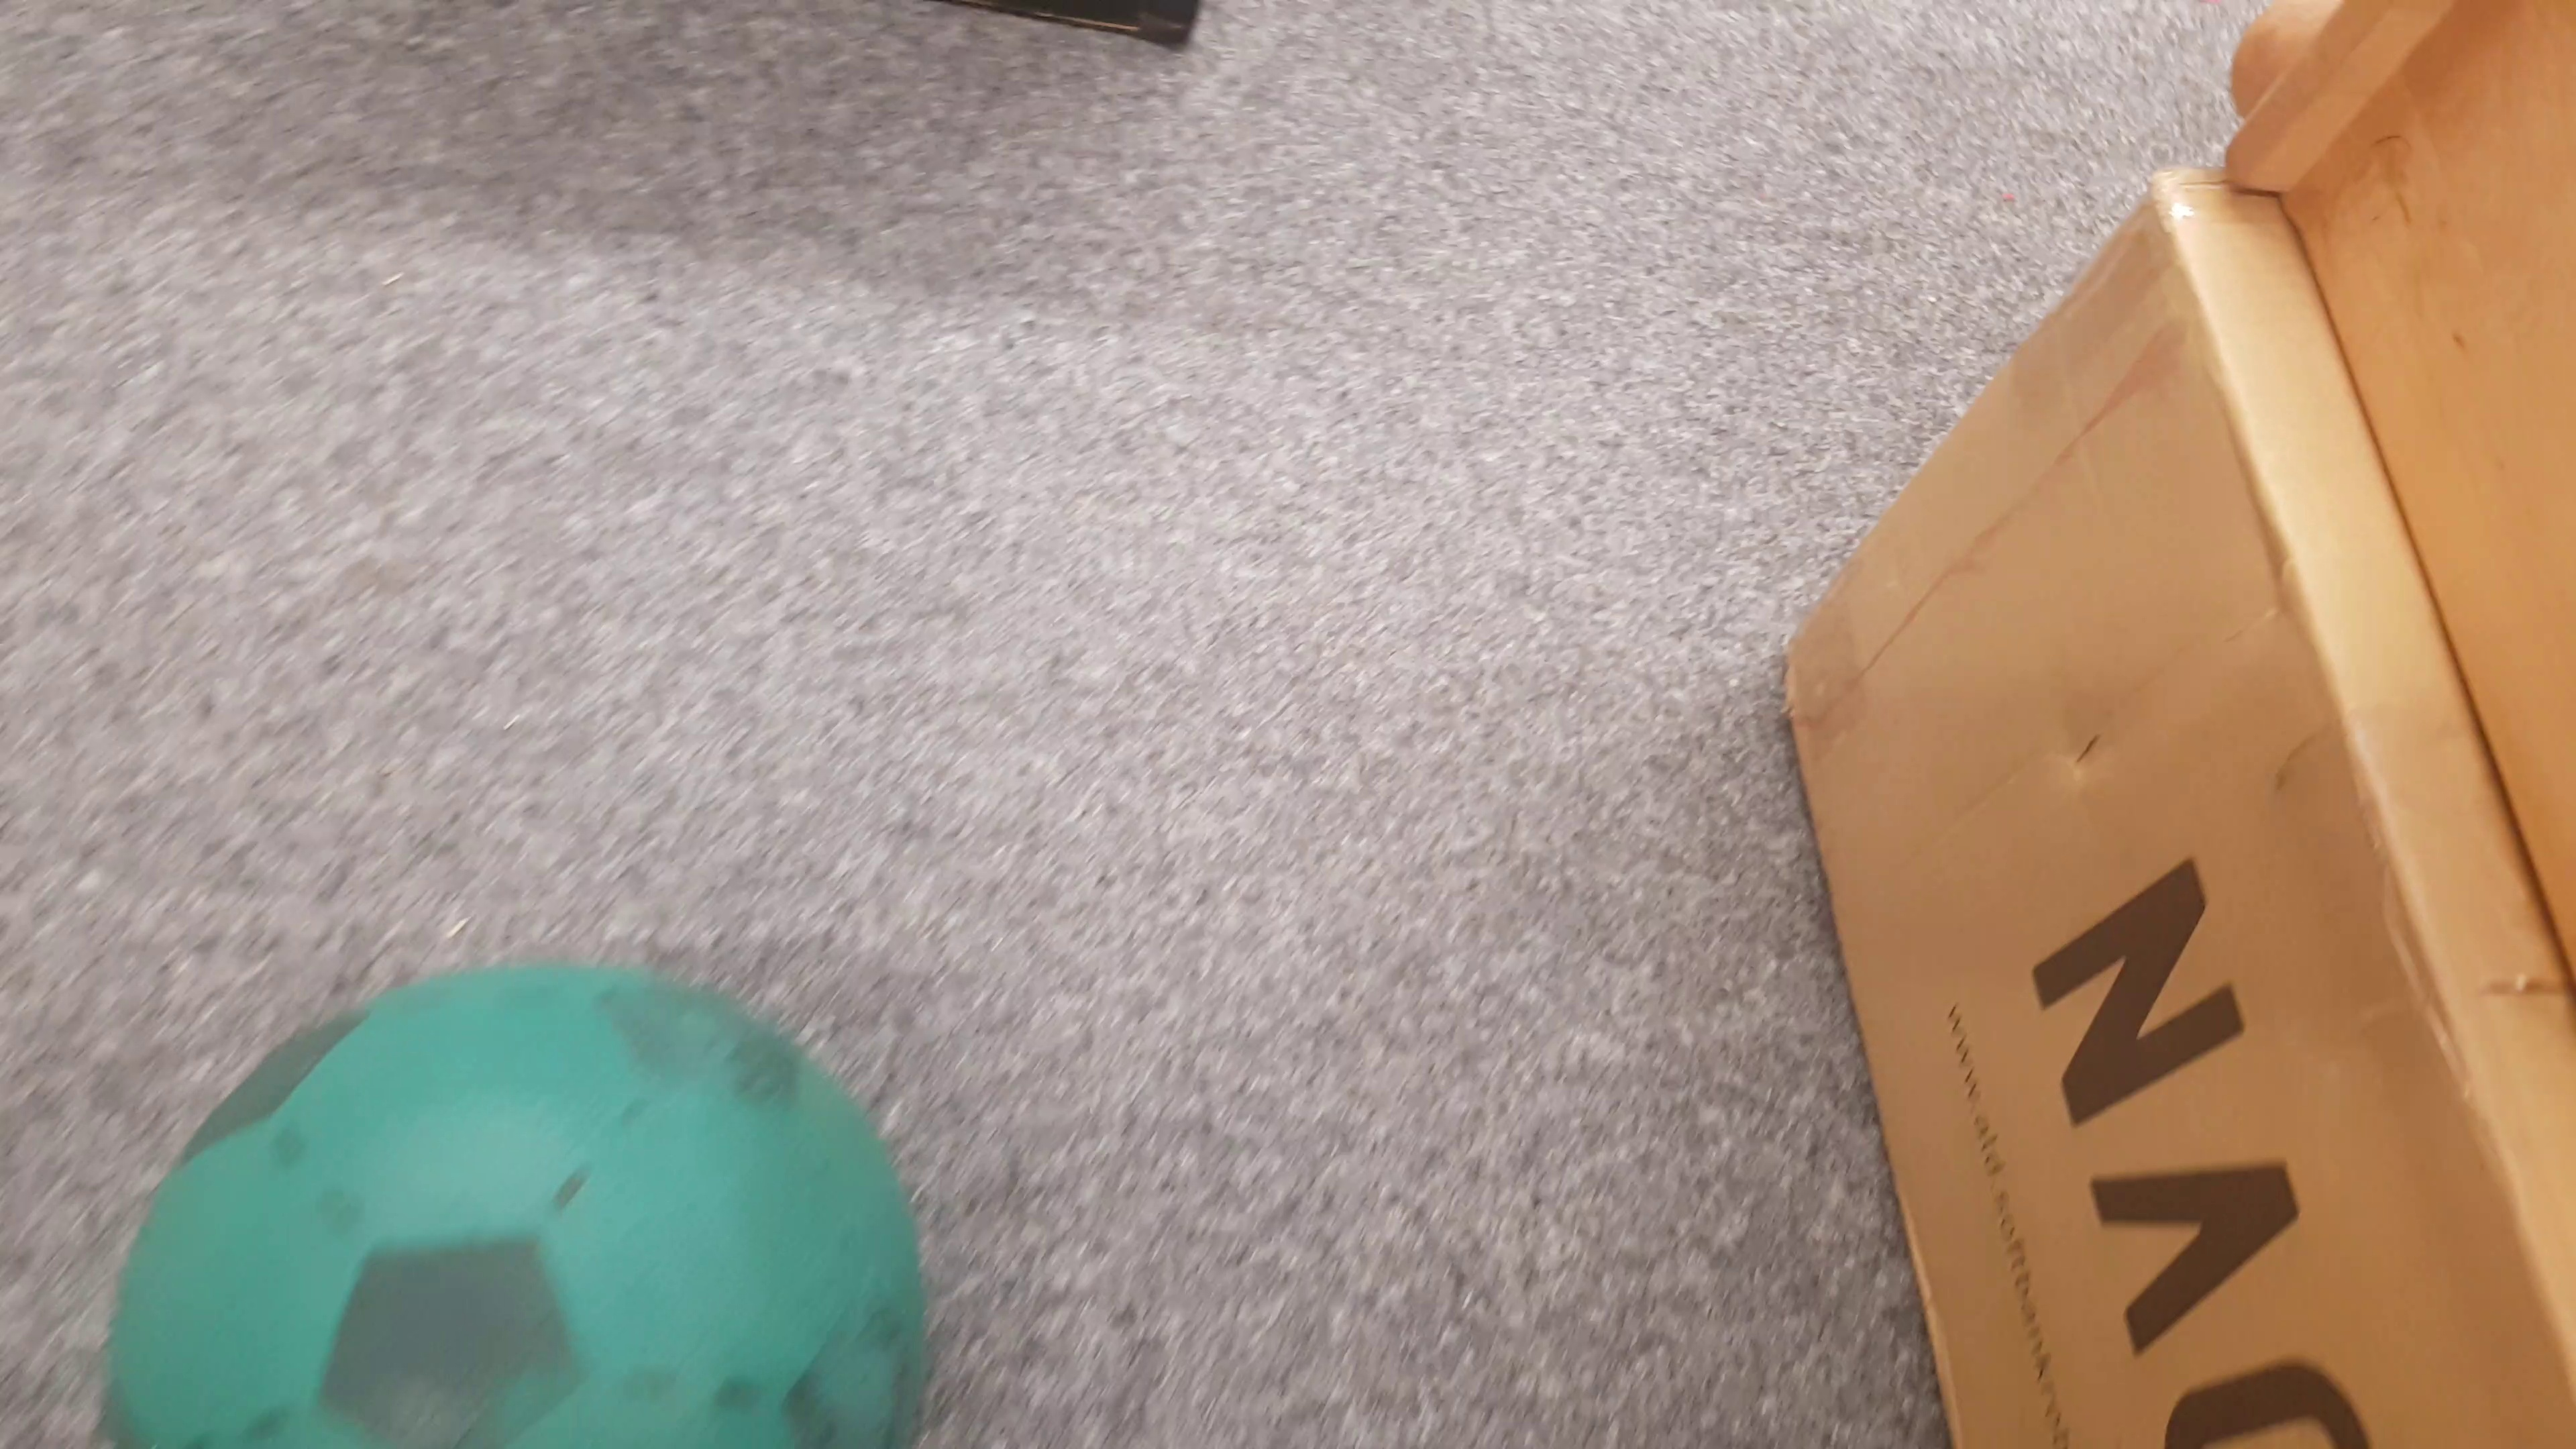kick: (103, 961, 916, 1449)
